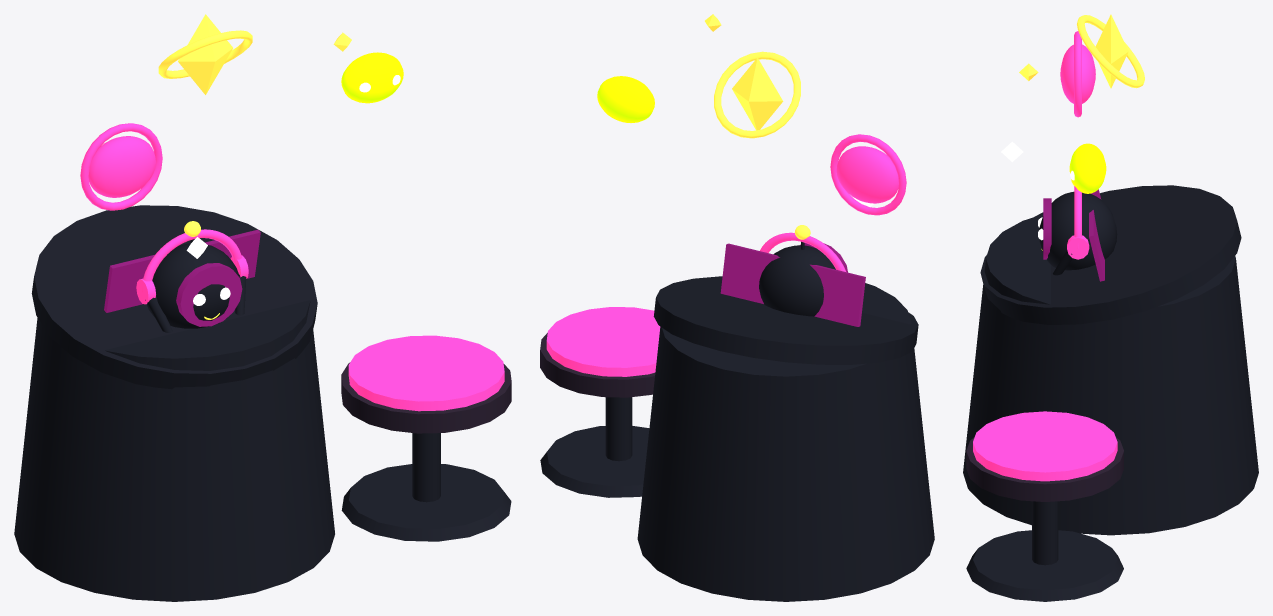
File: feedback-environment.glb
3 renders of one model, left to right at view 1: azimuth 30°, elevation 25°; view 2: azimuth 150°, elevation 25°; view 3: azimuth 270°, elevation 25°, orthographic. The views are drawn at different scales.
Parts seen in each view (by area): view 1: FeedbackKiosk, CharacterStool, FeedbackBotCompanion, HeartReaction, StarReaction, KioskTouchScreen, BubbleReaction; view 2: FeedbackKiosk, CharacterStool, FeedbackBotCompanion, HeartReaction, KioskTouchScreen, StarReaction, BubbleReaction; view 3: FeedbackKiosk, CharacterStool, FeedbackBotCompanion, StarReaction, HeartReaction, BubbleReaction, KioskTouchScreen.
Part boxes in pixels (left/top/right/bottom): FeedbackKiosk: left=14, top=205, right=334, bottom=601; CharacterStool: left=341, top=335, right=511, bottom=541; FeedbackBotCompanion: left=136, top=221, right=248, bottom=332; HeartReaction: left=80, top=123, right=162, bottom=210; StarReaction: left=158, top=14, right=252, bottom=94; KioskTouchScreen: left=104, top=229, right=260, bottom=312; BubbleReaction: left=341, top=52, right=403, bottom=103; FeedbackKiosk: left=637, top=276, right=934, bottom=601; CharacterStool: left=540, top=307, right=660, bottom=497; FeedbackBotCompanion: left=759, top=225, right=847, bottom=316; HeartReaction: left=830, top=134, right=906, bottom=215; KioskTouchScreen: left=720, top=243, right=865, bottom=326; StarReaction: left=714, top=51, right=800, bottom=138; BubbleReaction: left=597, top=76, right=654, bottom=122; FeedbackKiosk: left=963, top=185, right=1258, bottom=535; CharacterStool: left=966, top=411, right=1123, bottom=601; FeedbackBotCompanion: left=1038, top=179, right=1117, bottom=275; StarReaction: left=1077, top=14, right=1144, bottom=88; HeartReaction: left=1060, top=31, right=1095, bottom=117; BubbleReaction: left=1069, top=143, right=1106, bottom=193; KioskTouchScreen: left=1089, top=189, right=1104, bottom=281.
Size of what is drawn, in the model's own units: 1.39 by 1.59 by 0.9.
